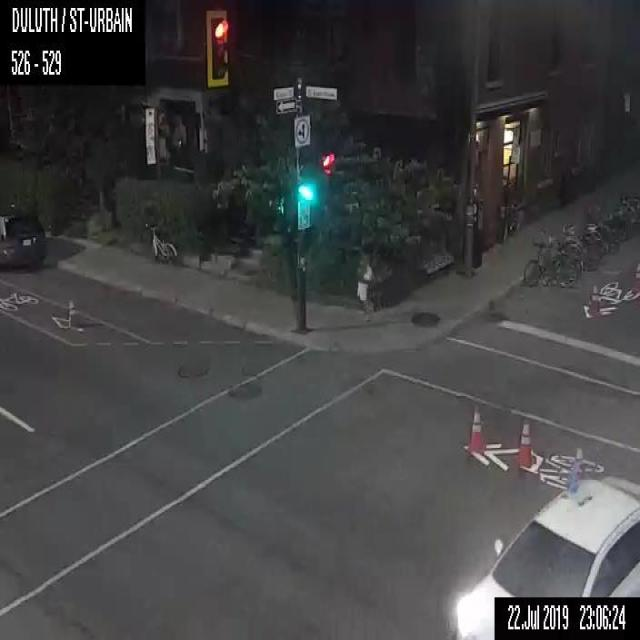construction: (464, 398, 484, 453), (517, 419, 530, 465)
vehicle: (454, 473, 639, 639), (493, 594, 639, 638), (0, 211, 44, 269)
